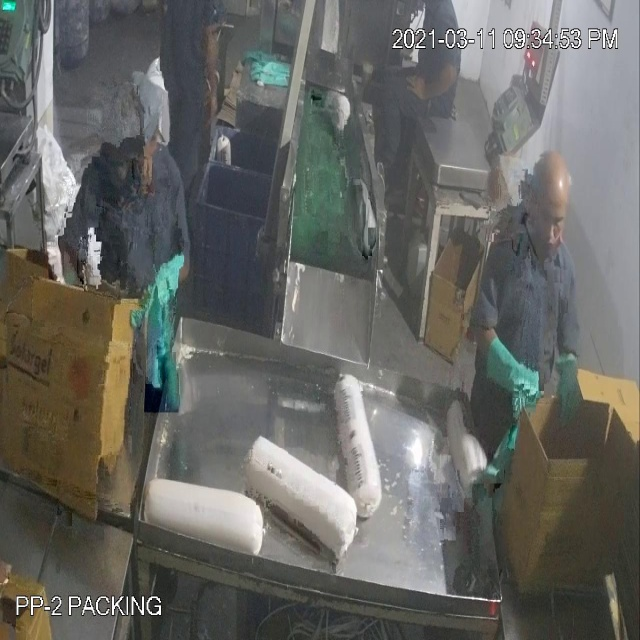Sin_guantes: (400, 46, 458, 117)
